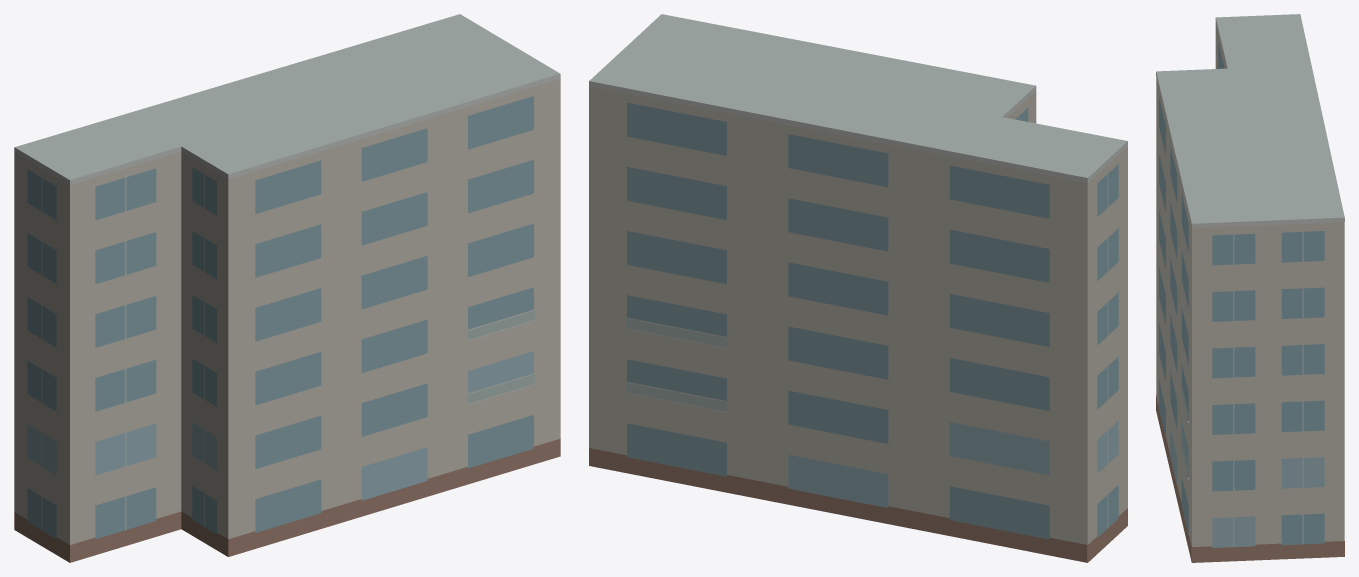
The model's file is survey-upis-32635297.glb.
3 views of the same model, side by side, from view 1: azimuth 30°, elevation 25°; view 2: azimuth 150°, elevation 25°; view 3: azimuth 270°, elevation 25° (orthographic). The views are drawn at different scales.
Visible parts, largest first — view 1: survey-upis-32635297.tmp; view 2: survey-upis-32635297.tmp; view 3: survey-upis-32635297.tmp.
Boxes of the visible parts, left/top/right/bottom form: survey-upis-32635297.tmp: left=14, top=14, right=560, bottom=562; survey-upis-32635297.tmp: left=589, top=14, right=1127, bottom=562; survey-upis-32635297.tmp: left=1156, top=14, right=1344, bottom=562.
Bounding box in the file's own units: 24.28 × 18.3 × 9.24.
